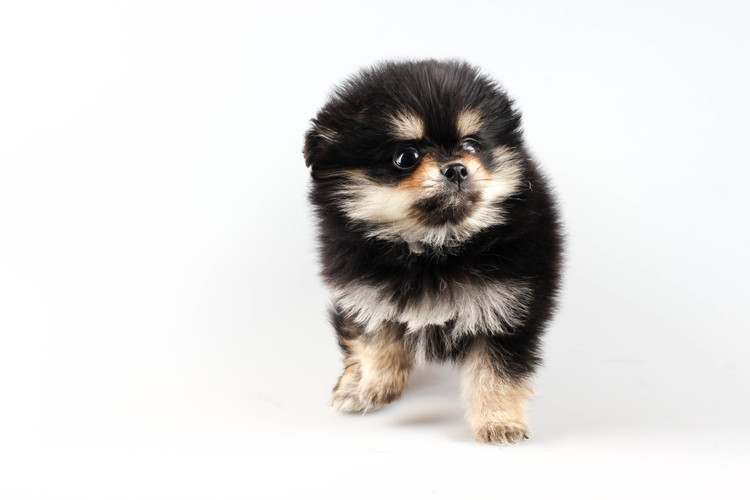pomeranian: (298, 51, 572, 448)
